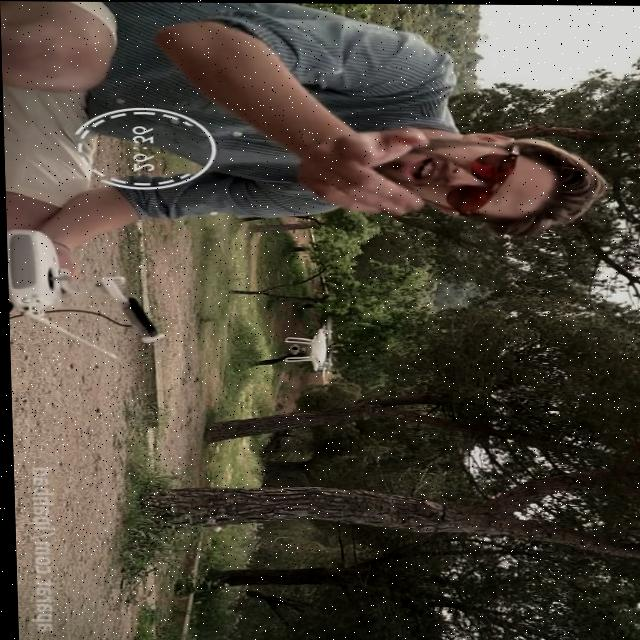drone: (283, 312, 341, 377)
